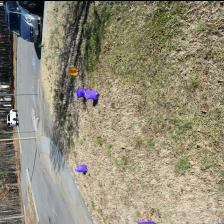cone: (68, 66, 78, 74)
cube: (84, 89, 98, 99), (76, 163, 88, 172), (137, 220, 159, 224), (76, 88, 86, 96)
